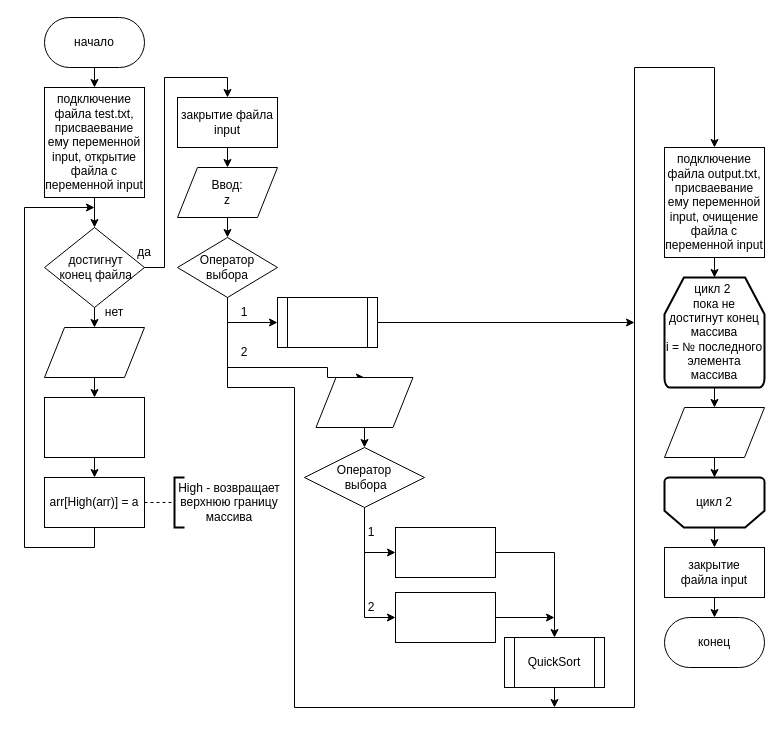
Image size: 783x733. Some labels were removed from this diagram. Each missing label, with the centre of its shape:
"flag=1" goes at point 445,552.
"flag=2" goes at point 445,617.
"selection_sort" goes at point 327,322.
"ввод:" goes at point 364,402.
"Ввод: a из файла input" goes at point 94,352.
"Вывод: arr[i] в файл input" goes at point 714,432.
"задаём динну массива arr по его текущей длине + 1" goes at point 94,427.
